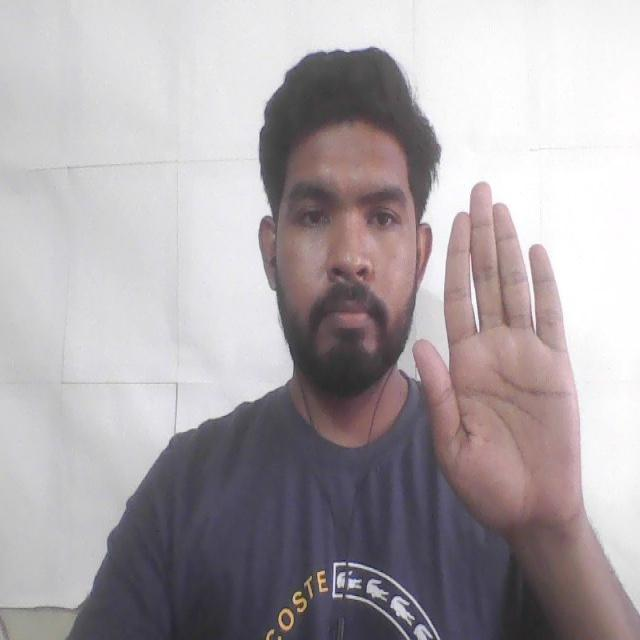Hello-Yes-No-Thanks-Please-ILU: (398, 171, 596, 548), (438, 178, 446, 224)
